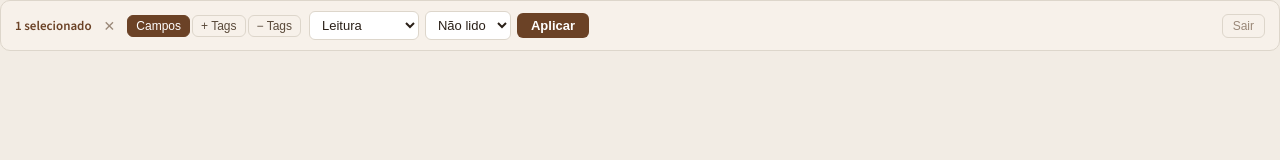
Test: BulkActionBar › switching to remove_tags mode shows tag input
Click the button "− Tags". click: [274, 26]
box: top-left (248, 14), bottom-right (301, 36)
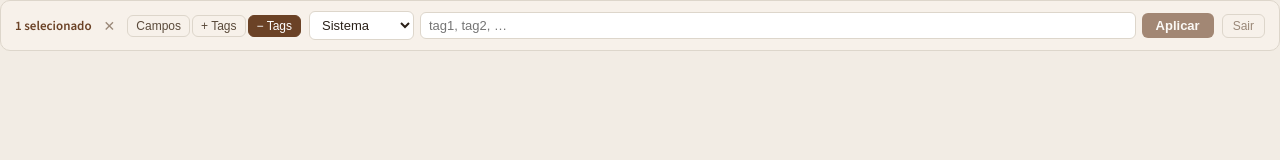
Now the field named "tags" is shown, box top-left (420, 12), bottom-right (1136, 39)
